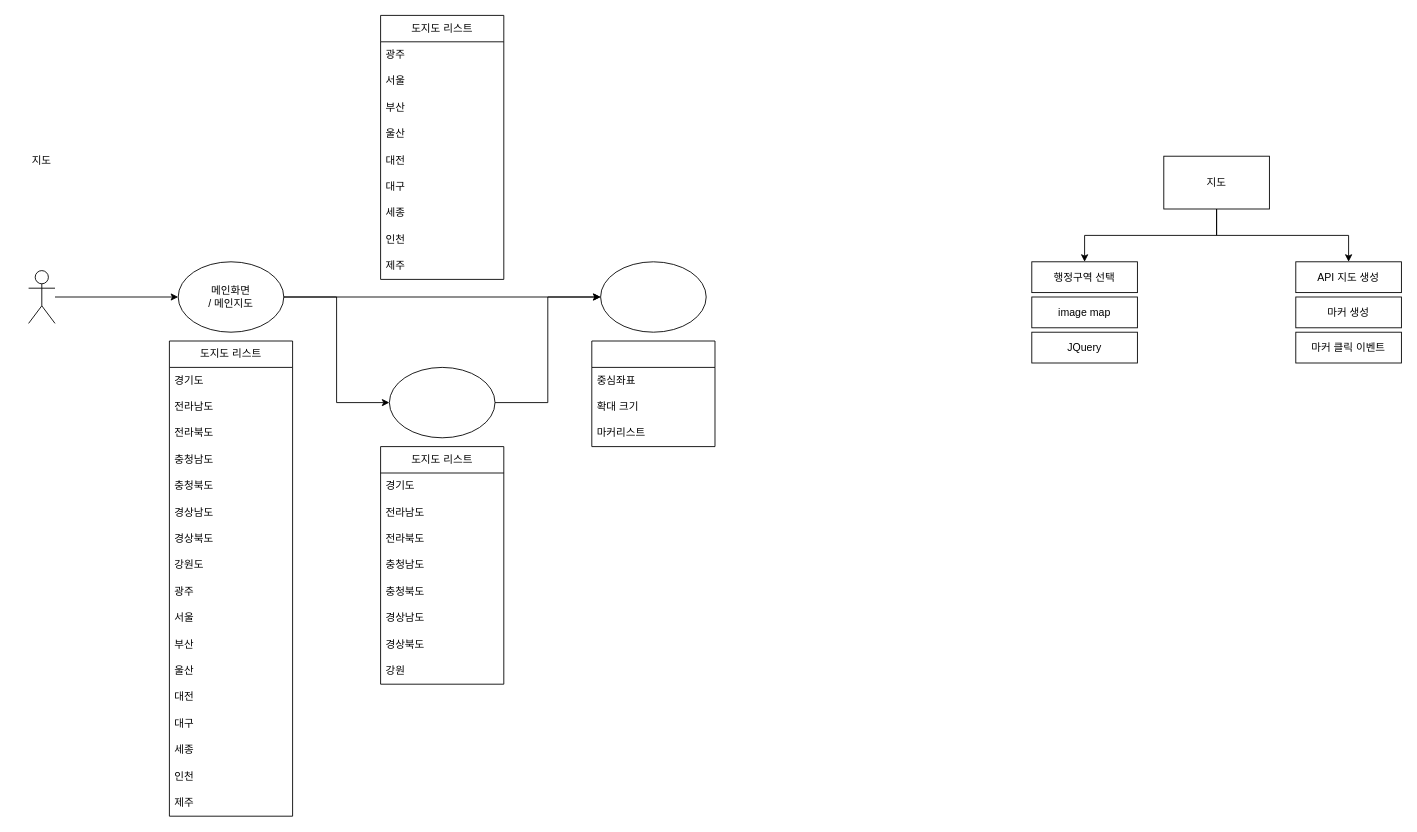
The diagram is 1417 pixels wide and 832 high, and some of its shapes have lost their labels. Here are the shapes that lost their labels. From the top down, the box of each, then its label:
(28, 270, 55, 323): Actor
(600, 261, 706, 332): API 지도
(389, 367, 495, 438): 도지도
(591, 340, 715, 447): List
